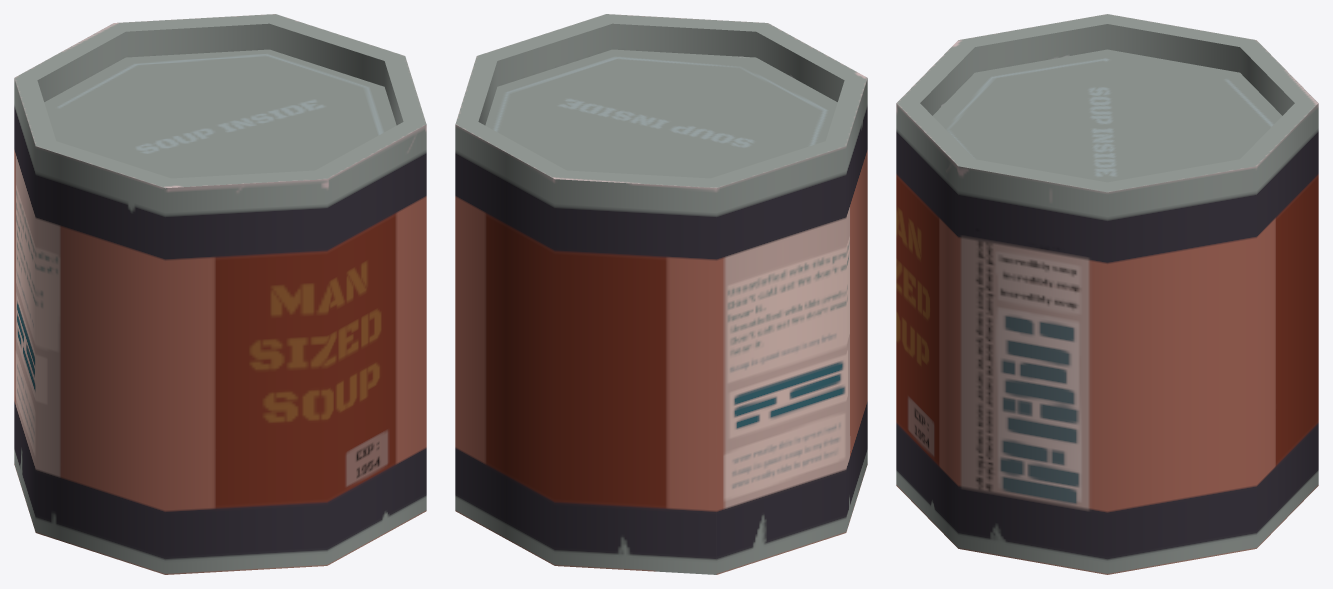
The model's file is soup.fbx.
3 renders of one model, left to right at view 1: azimuth 30°, elevation 25°; view 2: azimuth 150°, elevation 25°; view 3: azimuth 270°, elevation 25°, orthographic.
Parts seen in each view (by area): view 1: Soup; view 2: Soup; view 3: Soup.
Boxes of the visible parts, x1=… form: Soup: x1=14, y1=14, x2=426, y2=574; Soup: x1=455, y1=14, x2=867, y2=574; Soup: x1=896, y1=14, x2=1318, y2=574.
Size of the model in its own units: 0.4337 by 0.4337 by 0.4337.
